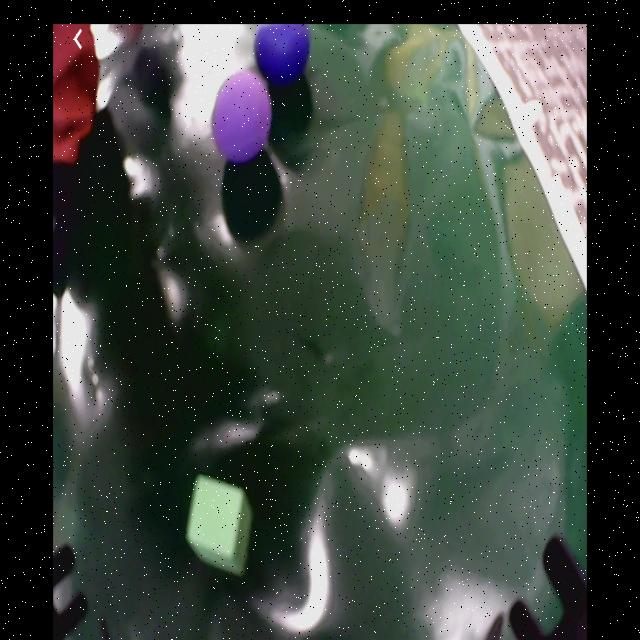ball: (211, 72, 272, 160), (256, 28, 311, 77)
